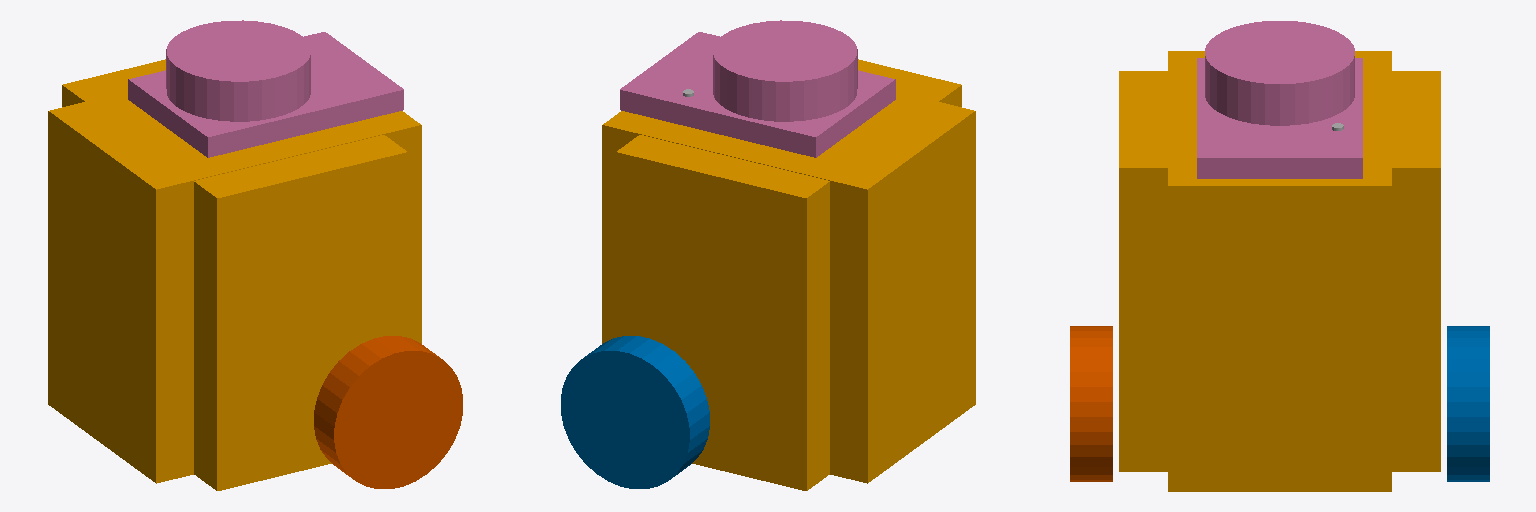
robot.urdf — turtlebot3:
<?xml version="1.0"?>
<robot name="turtlebot3">
  <link name="base_link">
    <visual>
      <origin xyz="-0.032 0 0.08" rpy="0 0 0"/>
      <geometry>
        <box size="0.097 0.137 0.1425"/>
      </geometry>
    </visual>
    <collision>
      <origin xyz="-0.032 0 0.08" rpy="0 0 0"/>
      <geometry>
        <box size="0.097 0.137 0.1425"/>
      </geometry>
    </collision>
    <visual>
      <origin xyz="-0.032 0 0.08" rpy="0 0 0"/>
      <geometry>
        <box size="0.135 0.095 0.143"/>
      </geometry>
    </visual>
    <collision>
      <origin xyz="-0.032 0 0.08" rpy="0 0 0"/>
      <geometry>
        <box size="0.135 0.095 0.143"/>
      </geometry>
    </collision>
  </link>
  <link name="compass">
  </link>
  <joint name="base_link_compass_joint" type="fixed">
    <parent link="base_link"/>
    <child link="compass"/>
    <origin xyz="-0.032 0 0.078" rpy="0 0 0"/>
  </joint>
  <link name="gyro">
  </link>
  <joint name="base_link_gyro_joint" type="fixed">
    <parent link="base_link"/>
    <child link="gyro"/>
    <origin xyz="-0.032 0 0.078" rpy="0 0 0"/>
  </joint>
  <link name="accelerometer">
  </link>
  <joint name="base_link_accelerometer_joint" type="fixed">
    <parent link="base_link"/>
    <child link="accelerometer"/>
    <origin xyz="-0.032 0 0.078" rpy="0 0 0"/>
  </joint>
  <joint name="left wheel motor" type="continuous">
    <parent link="base_link"/>
    <child link="left wheel"/>
    <axis xyz="-0.000003 -1 0.000003"/>
    <limit effort="10" velocity="6.67"/>
    <origin xyz="0 0.08 0.033" rpy="-0.000001 -0.913195 -3.141587"/>
  </joint>
  <link name="left wheel">
    <visual>
      <origin xyz="0 0 0" rpy="-1.570796 0 0"/>
      <geometry>
        <cylinder radius="0.033" length="0.018"/>
      </geometry>
    </visual>
    <collision>
      <origin xyz="0 0 0" rpy="-1.570796 0 0"/>
      <geometry>
        <cylinder radius="0.033" length="0.018"/>
      </geometry>
    </collision>
  </link>
  <joint name="right wheel motor" type="continuous">
    <parent link="base_link"/>
    <child link="right wheel"/>
    <axis xyz="0 1 0"/>
    <limit effort="10" velocity="6.67"/>
    <origin xyz="0 -0.08 0.033" rpy="3.141593 -0.913207 3.141593"/>
  </joint>
  <link name="right wheel">
    <visual>
      <origin xyz="0 0 0" rpy="-1.570796 0 0"/>
      <geometry>
        <cylinder radius="0.033" length="0.018"/>
      </geometry>
    </visual>
    <collision>
      <origin xyz="0 0 0" rpy="-1.570796 0 0"/>
      <geometry>
        <cylinder radius="0.033" length="0.018"/>
      </geometry>
    </collision>
  </link>
  <link name="LDS-01">
    <visual>
      <origin xyz="0.014 0 -0.014" rpy="1.5708 0.00001 -1.5708"/>
      <geometry>
        <box size="0.07 0.01 0.1"/>
      </geometry>
    </visual>
    <collision>
      <origin xyz="0.014 0 -0.014" rpy="1.5708 0.00001 -1.5708"/>
      <geometry>
        <box size="0.07 0.01 0.1"/>
      </geometry>
    </collision>
    <visual>
      <origin xyz="0 0 0" rpy="0 0 0"/>
      <geometry>
        <cylinder radius="0.032" length="0.021"/>
      </geometry>
    </visual>
    <collision>
      <origin xyz="0 0 0" rpy="0 0 0"/>
      <geometry>
        <cylinder radius="0.032" length="0.021"/>
      </geometry>
    </collision>
  </link>
  <joint name="base_link_LDS-01_joint" type="fixed">
    <parent link="base_link"/>
    <child link="LDS-01"/>
    <origin xyz="-0.03 0 0.173" rpy="0 0 0"/>
  </joint>
  <link name="screw3">
    <visual>
      <origin xyz="0.01 0 0" rpy="3.141593 1.570793 3.141593"/>
      <geometry>
        <cylinder radius="0.0015" length="0.02"/>
      </geometry>
    </visual>
    <collision>
      <origin xyz="0.01 0 0" rpy="3.141593 1.570793 3.141593"/>
      <geometry>
        <cylinder radius="0.0015" length="0.02"/>
      </geometry>
    </collision>
    <visual>
      <origin xyz="-0.0015 0 0" rpy="3.141593 1.570793 3.141593"/>
      <geometry>
        <cylinder radius="0.0025" length="0.003"/>
      </geometry>
    </visual>
    <collision>
      <origin xyz="-0.0015 0 0" rpy="3.141593 1.570793 3.141593"/>
      <geometry>
        <cylinder radius="0.0025" length="0.003"/>
      </geometry>
    </collision>
  </link>
  <joint name="LDS-01_screw3_joint" type="fixed">
    <parent link="LDS-01"/>
    <child link="screw3"/>
    <origin xyz="0.035 0.0245 -0.0105" rpy="0 1.570787 0"/>
  </joint>
  <link name="screw2">
    <visual>
      <origin xyz="0.01 0 0" rpy="3.141593 1.570793 3.141593"/>
      <geometry>
        <cylinder radius="0.0015" length="0.02"/>
      </geometry>
    </visual>
    <collision>
      <origin xyz="0.01 0 0" rpy="3.141593 1.570793 3.141593"/>
      <geometry>
        <cylinder radius="0.0015" length="0.02"/>
      </geometry>
    </collision>
    <visual>
      <origin xyz="-0.0015 0 0" rpy="3.141593 1.570793 3.141593"/>
      <geometry>
        <cylinder radius="0.0025" length="0.003"/>
      </geometry>
    </visual>
    <collision>
      <origin xyz="-0.0015 0 0" rpy="3.141593 1.570793 3.141593"/>
      <geometry>
        <cylinder radius="0.0025" length="0.003"/>
      </geometry>
    </collision>
  </link>
  <joint name="LDS-01_screw2_joint" type="fixed">
    <parent link="LDS-01"/>
    <child link="screw2"/>
    <origin xyz="0.035 0.0245 -0.0105" rpy="0 1.570787 0"/>
  </joint>
  <link name="screw1">
    <visual>
      <origin xyz="0.01 0 0" rpy="3.141593 1.570793 3.141593"/>
      <geometry>
        <cylinder radius="0.0015" length="0.02"/>
      </geometry>
    </visual>
    <collision>
      <origin xyz="0.01 0 0" rpy="3.141593 1.570793 3.141593"/>
      <geometry>
        <cylinder radius="0.0015" length="0.02"/>
      </geometry>
    </collision>
    <visual>
      <origin xyz="-0.0015 0 0" rpy="3.141593 1.570793 3.141593"/>
      <geometry>
        <cylinder radius="0.0025" length="0.003"/>
      </geometry>
    </visual>
    <collision>
      <origin xyz="-0.0015 0 0" rpy="3.141593 1.570793 3.141593"/>
      <geometry>
        <cylinder radius="0.0025" length="0.003"/>
      </geometry>
    </collision>
  </link>
  <joint name="LDS-01_screw1_joint" type="fixed">
    <parent link="LDS-01"/>
    <child link="screw1"/>
    <origin xyz="0.035 0.0245 -0.0105" rpy="0 1.570787 0"/>
  </joint>
  <link name="screw0">
    <visual>
      <origin xyz="0.01 0 0" rpy="3.141593 1.570793 3.141593"/>
      <geometry>
        <cylinder radius="0.0015" length="0.02"/>
      </geometry>
    </visual>
    <collision>
      <origin xyz="0.01 0 0" rpy="3.141593 1.570793 3.141593"/>
      <geometry>
        <cylinder radius="0.0015" length="0.02"/>
      </geometry>
    </collision>
    <visual>
      <origin xyz="-0.0015 0 0" rpy="3.141593 1.570793 3.141593"/>
      <geometry>
        <cylinder radius="0.0025" length="0.003"/>
      </geometry>
    </visual>
    <collision>
      <origin xyz="-0.0015 0 0" rpy="3.141593 1.570793 3.141593"/>
      <geometry>
        <cylinder radius="0.0025" length="0.003"/>
      </geometry>
    </collision>
  </link>
  <joint name="LDS-01_screw0_joint" type="fixed">
    <parent link="LDS-01"/>
    <child link="screw0"/>
    <origin xyz="0.035 0.0245 -0.0105" rpy="0 1.570787 0"/>
  </joint>
  <joint name="LDS-01_secondary_motor" type="continuous">
    <parent link="LDS-01"/>
    <child link="solid"/>
    <axis xyz="0 -0.000004 1"/>
    <limit effort="10" velocity="150"/>
    <origin xyz="-0.046 0.01 -0.01" rpy="-0.000014 0.000005 3.141587"/>
  </joint>
  <link name="solid">
  </link>
  <joint name="LDS-01_main_motor" type="continuous">
    <parent link="LDS-01"/>
    <child link="lower"/>
    <axis xyz="0 -0.000004 1"/>
    <limit effort="10" velocity="40"/>
    <origin xyz="-0.046 0.02 -0.01" rpy="-0.000014 0.000005 3.141587"/>
  </joint>
  <link name="lower">
  </link>
  <webots>
    <plugin type="webots_turtle.driver_turtle.RobotDriver"/>
  </webots>
</robot>

--- Render facts (derived) ---
Views: 3 orthographic renders of the robot side by side, from view 1: azimuth 30°, elevation 25°; view 2: azimuth 150°, elevation 25°; view 3: azimuth 270°, elevation 25°.
Robot: turtlebot3 — 13 links, 12 joints (4 continuous, 8 fixed); root link base_link; default pose: all joints at 0.
Visible links, largest first — view 1: base_link, LDS-01, right wheel; view 2: base_link, LDS-01, left wheel; view 3: base_link, LDS-01, left wheel, right wheel.
Boxes of the visible links, x1,y1,x2,y2 form: base_link: (48, 59, 421, 490); LDS-01: (128, 20, 403, 157); right wheel: (314, 336, 462, 488); base_link: (602, 59, 975, 490); LDS-01: (620, 20, 895, 157); left wheel: (561, 336, 709, 488); base_link: (1119, 51, 1440, 491); LDS-01: (1197, 21, 1362, 178); left wheel: (1447, 326, 1489, 481); right wheel: (1070, 326, 1112, 481).
Bounding box of the posed robot: 0.135 × 0.178 × 0.1834 m (x, y, z).
Geometry: primitives only (box / cylinder / sphere), no mesh files.
